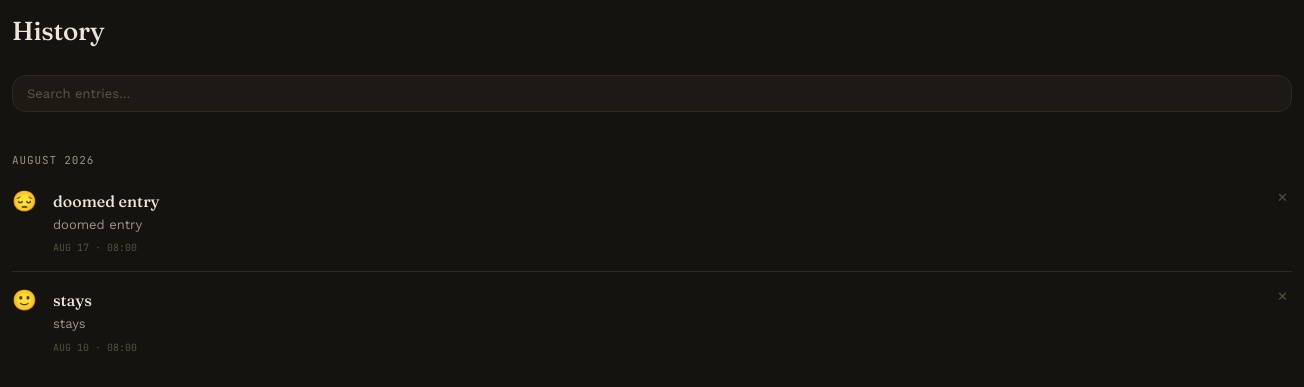
HistoryView (W7) — delete + regen seam › confirms inline, deletes the entry + cascaded follow-ups, re-renders, and schedules the W11 regen seam
Expected: the number of links with class "entry-row" is 2, [12, 172, 1292, 272]; [12, 272, 1292, 370]
Click the 1st button with class "entry-delete" at (1283, 197), box [1273, 188, 1292, 206]
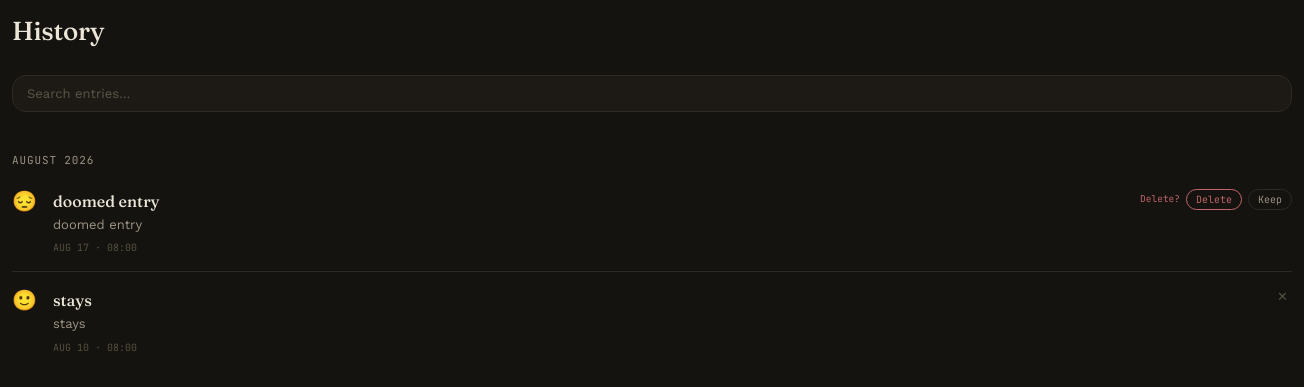
Expected: the element with class "delete-confirm" is shown, [1140, 188, 1292, 210]
Note: The confirm bar must not navigate when its buttons are clicked.
Click the button with class "confirm-yes" at (1214, 199), box [1186, 188, 1242, 210]
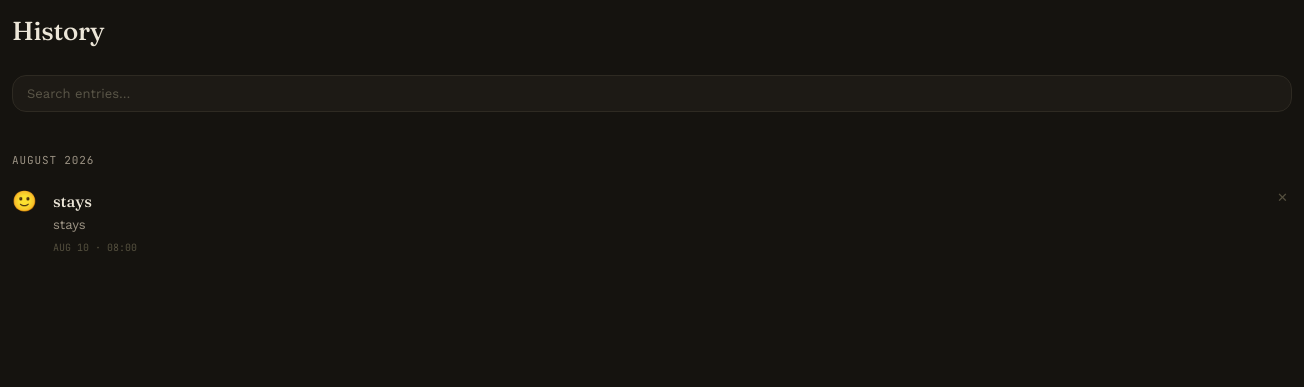
Expected: the text with class "entry-title" reads "stays", [53, 190, 92, 210]
Expected: the number of links with class "entry-row" is 1, [12, 172, 1292, 271]
